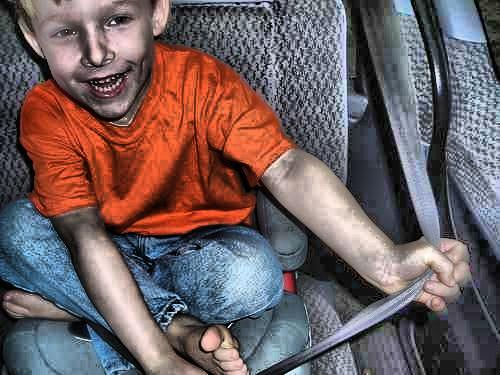seatbelt: (272, 18, 464, 357)
